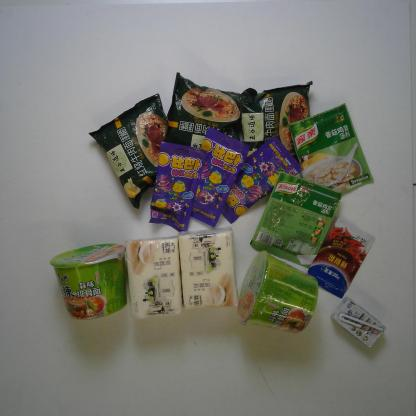Candy: (221, 135, 304, 224), (191, 127, 250, 229), (148, 142, 205, 233)
Instant Noodles: (88, 92, 169, 209), (164, 72, 257, 160), (238, 252, 319, 334), (237, 80, 314, 165), (49, 240, 128, 320)
Milk: (330, 297, 385, 348)
Seasoner: (249, 170, 344, 269), (288, 101, 373, 196), (305, 214, 374, 298)
Tissue: (177, 226, 240, 310), (128, 236, 184, 319)
